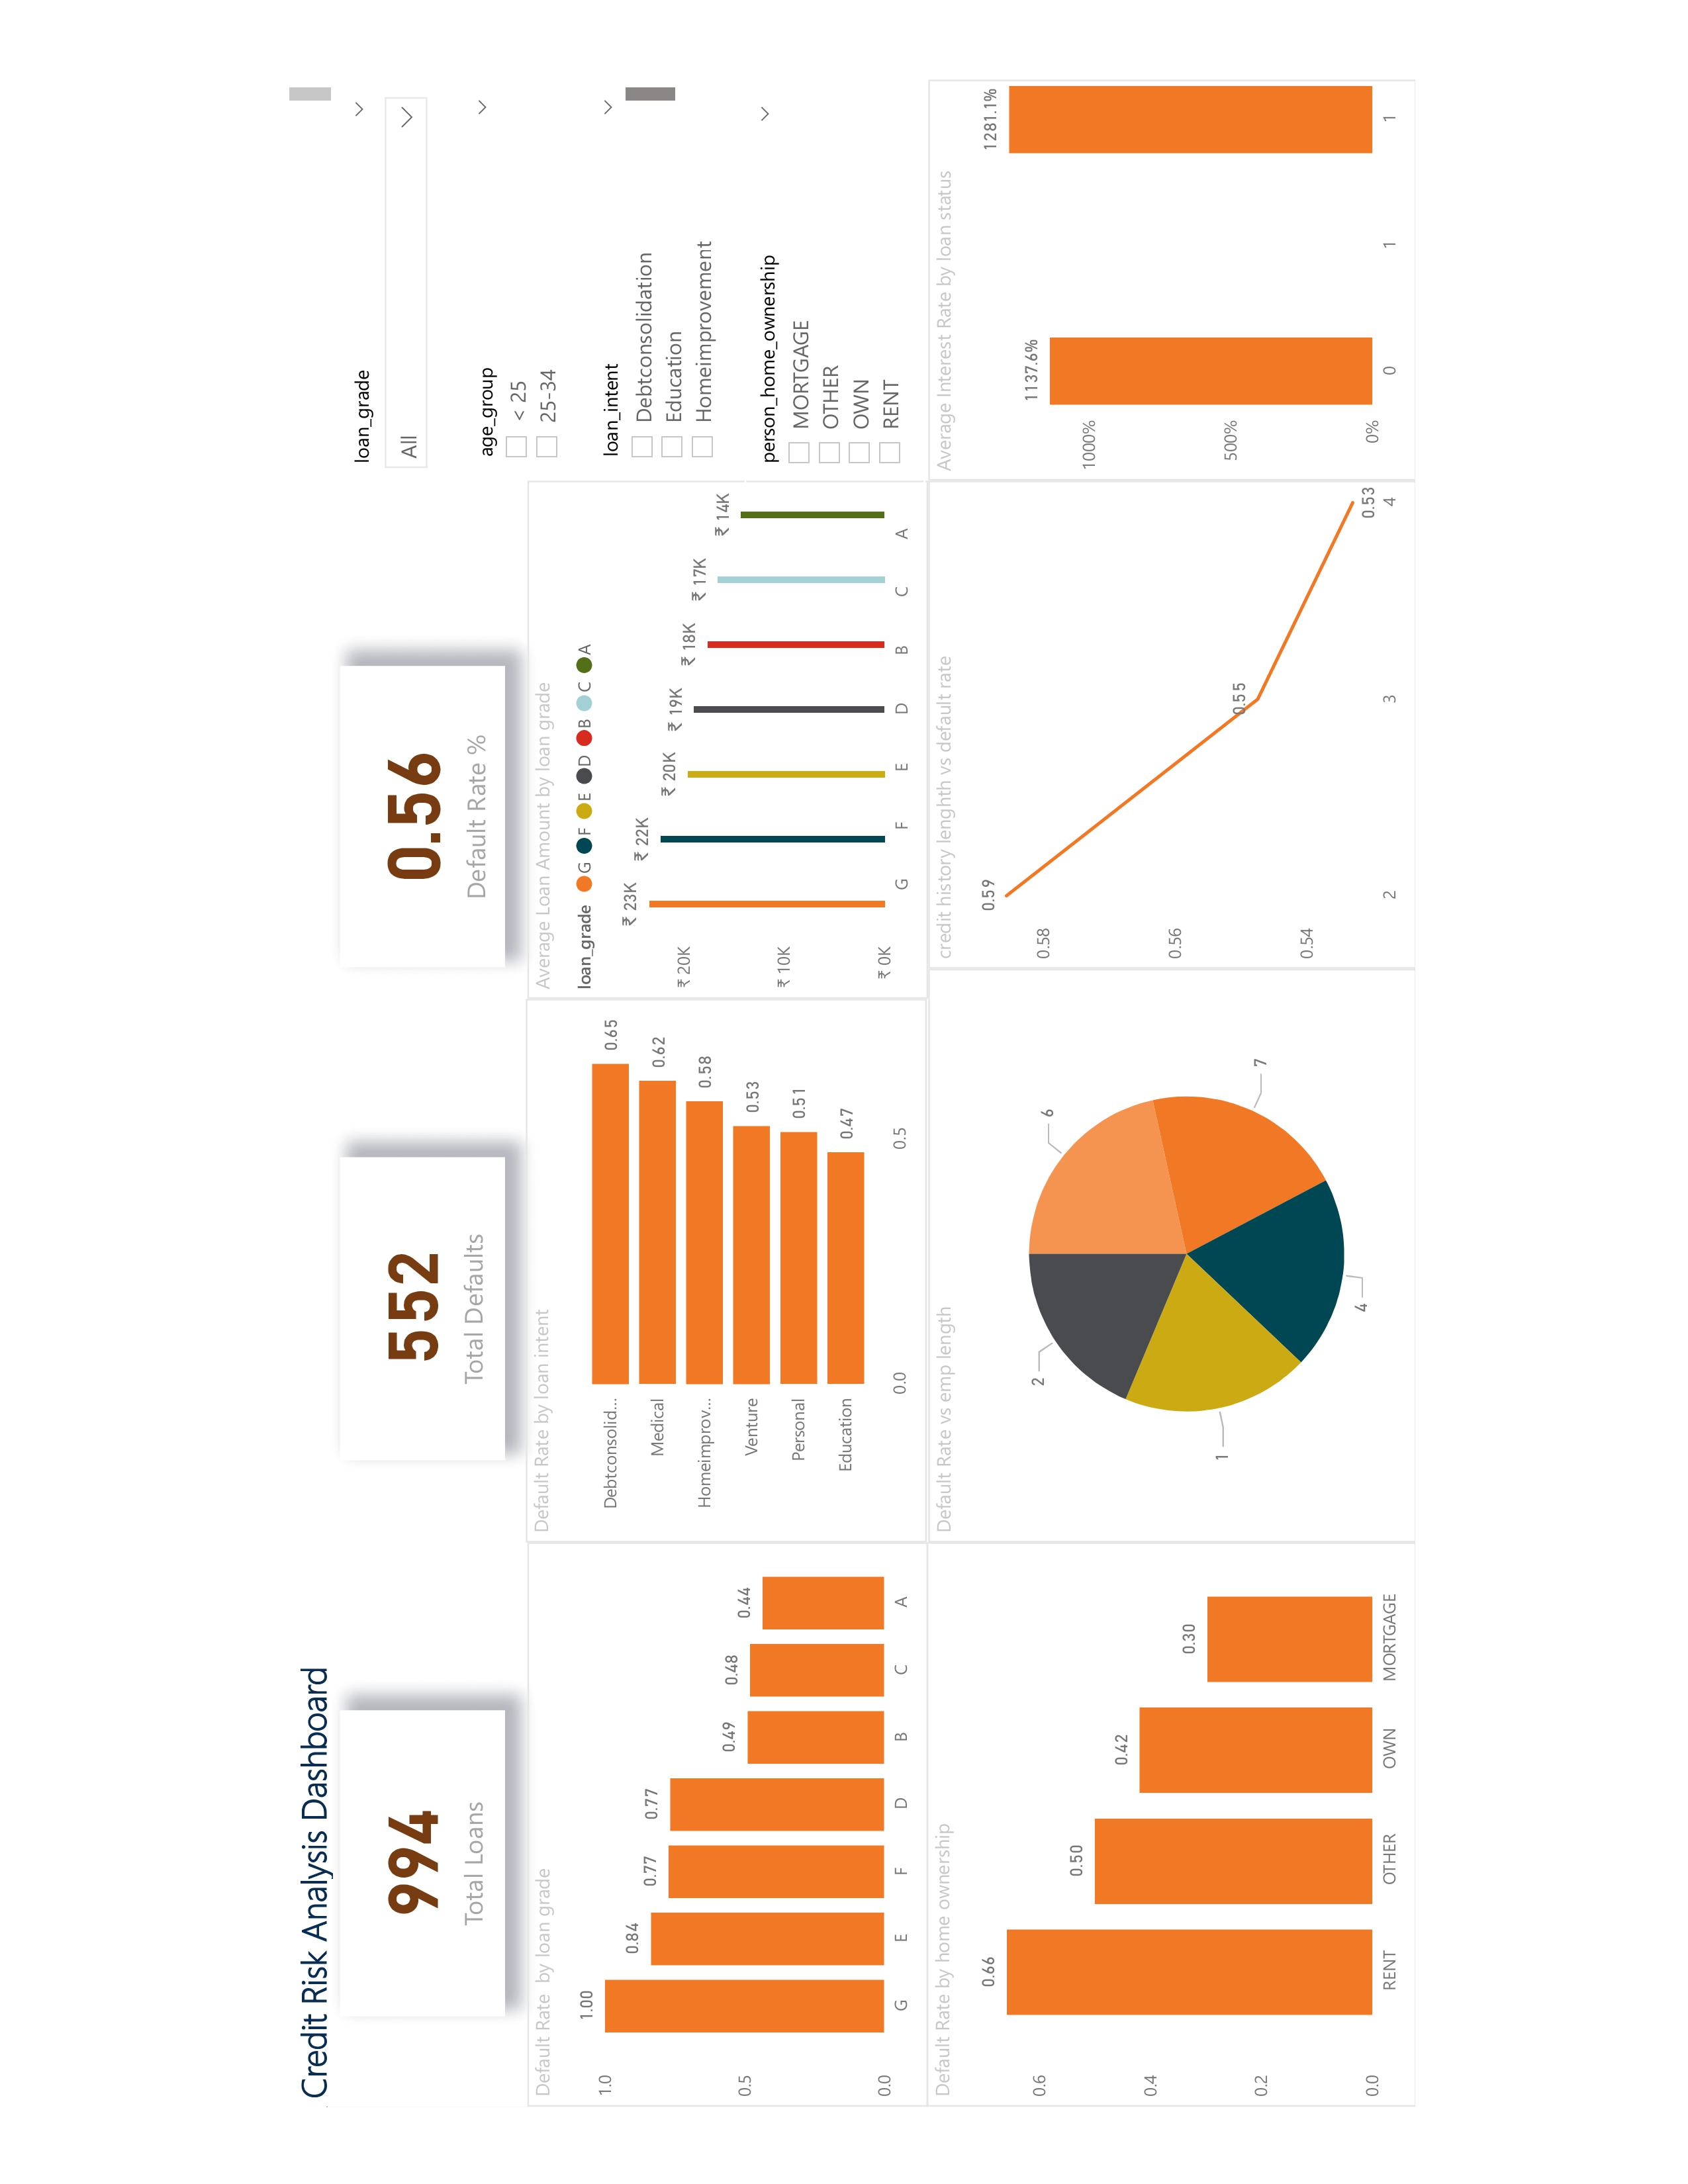

The page's visual inventory and layout, read from the dashboard file:
{"tool":"powerbi","page":{"name":"CREDIT RISK ANALYSIS_dashboard","canvas":[1280,720],"ordinal":0},"visuals":[{"type":"card","fields":{"Values":["Credit_risk_1.Total Loans"]},"box":[57.1,42.4,193.2,103.9],"z":0},{"type":"card","fields":{"Values":["Credit_risk_1.Total Defaults"]},"box":[408.3,42.4,190.2,103.9],"z":1000},{"type":"card","fields":{"Values":["Credit_risk_1.Default Rate %"]},"box":[718.5,42.4,190.2,103.9],"z":2000},{"type":"clusteredColumnChart","title":"Default Rate  by loan grade","fields":{"Category":["Credit_risk_1.loan_grade"],"Y":["Credit_risk_1.Default Rate %"]},"box":[0,160.3,356.4,252.6],"z":3000},{"type":"clusteredBarChart","title":"Default Rate by loan intent","fields":{"Y":["Credit_risk_1.Default Rate %"],"Category":["Credit_risk_1.loan_intent"]},"box":[356.4,159,342.3,252.6],"z":4000},{"type":"clusteredColumnChart","title":"Average Loan Amount by loan grade","fields":{"Category":["Credit_risk_1.loan_grade"],"Y":["Credit_risk_1.Average Loan Amount"],"Series":["Credit_risk_1.loan_grade"]},"box":[698.7,160.3,326.9,252.6],"z":5000},{"type":"clusteredColumnChart","title":"Default Rate by home ownership","fields":{"Category":["Credit_risk_1.person_home_ownership"],"Y":["Credit_risk_1.Default Rate %"]},"box":[0,411.5,356.4,309],"z":6000},{"type":"pieChart","title":"Default Rate vs emp length","fields":{"Category":["Credit_risk_1.person_emp_length"],"Y":["Credit_risk_1.Default Rate %"]},"box":[356.4,412.8,361.5,307.7],"z":7000},{"type":"lineChart","title":"credit history lenghth vs default rate","fields":{"Category":["Credit_risk_1.cb_person_cred_hist_length"],"Y":["Credit_risk_1.Default Rate %"]},"box":[717.9,412.8,307.7,307.7],"z":8000},{"type":"clusteredColumnChart","title":"Average Interest Rate by loan status","fields":{"Category":["Credit_risk_1.loan_status"],"Y":["Credit_risk_1.Average Interest Rate"]},"box":[1025.6,412.8,253.8,307.7],"z":9000},{"type":"slicer","fields":{"Values":["Credit_risk_1.loan_grade"]},"box":[1024.4,42.4,253.2,61.5],"z":10000},{"type":"slicer","fields":{"Values":["Credit_risk_1.loan_intent"]},"box":[1027.3,197.6,253.2,87.8],"z":11000},{"type":"slicer","fields":{"Values":["Credit_risk_1.person_home_ownership"]},"box":[1022.9,297.1,253.2,114.1],"z":12000},{"type":"slicer","fields":{"Values":["Credit_risk_1.age_group"]},"box":[1027.3,118.5,253.2,84.9],"z":13000},{"type":"textbox","box":[0,5.1,1279.5,37.2],"z":14000}]}

Visuals, with their boxes on the page's 1280x720 design canvas (x1, y1, x2, y2). These are canvas units, not pixel positions in the 1688x2184 screenshot, which may show the page scaled, cropped or inside an application window:
card - Credit_risk_1.Total Loans: [57, 42, 250, 146]
card - Credit_risk_1.Total Defaults: [408, 42, 598, 146]
card - Credit_risk_1.Default Rate %: [718, 42, 909, 146]
"Default Rate  by loan grade" clusteredColumnChart: [0, 160, 356, 413]
"Default Rate by loan intent" clusteredBarChart: [356, 159, 699, 412]
"Average Loan Amount by loan grade" clusteredColumnChart: [699, 160, 1026, 413]
"Default Rate by home ownership" clusteredColumnChart: [0, 412, 356, 720]
"Default Rate vs emp length" pieChart: [356, 413, 718, 720]
"credit history lenghth vs default rate" lineChart: [718, 413, 1026, 720]
"Average Interest Rate by loan status" clusteredColumnChart: [1026, 413, 1279, 720]
slicer - Credit_risk_1.loan_grade: [1024, 42, 1278, 104]
slicer - Credit_risk_1.loan_intent: [1027, 198, 1280, 285]
slicer - Credit_risk_1.person_home_ownership: [1023, 297, 1276, 411]
slicer - Credit_risk_1.age_group: [1027, 118, 1280, 203]
textbox: [0, 5, 1280, 42]
